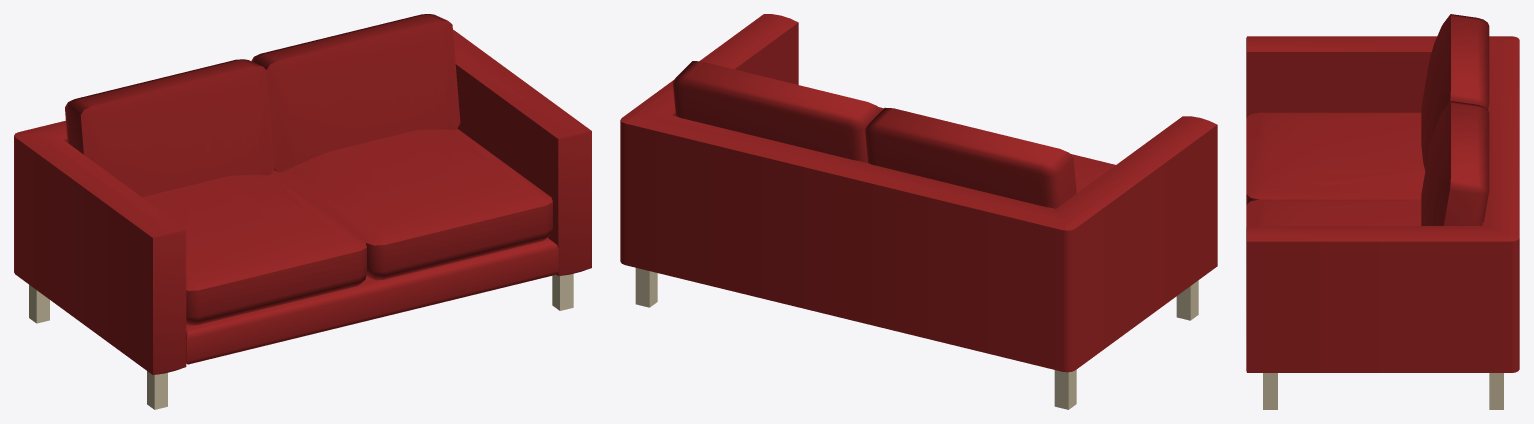
The model's file is sofa2.dae.
The picture shows the model from 3 angles, left to right: view 1: azimuth 30°, elevation 25°; view 2: azimuth 150°, elevation 25°; view 3: azimuth 270°, elevation 25°; orthographic projection. The views are drawn at different scales.
Visible parts, largest first — view 1: karlstad_loveseat_half1, karlstad_cushion4, karlstad_cushion1, karlstad_cushion3, karlstad_cushion2, karlstad_loveseat_half2, Group1, karlstad_leg12 (×2), karlstad_leg; view 2: karlstad_loveseat_half1, karlstad_loveseat_half2, karlstad_cushion2, karlstad_cushion1, karlstad_leg (×2), karlstad_cushion3, karlstad_leg12; view 3: karlstad_loveseat_half2, karlstad_loveseat_half1, karlstad_cushion3, karlstad_cushion1, karlstad_cushion2, karlstad_cushion4, karlstad_leg12, karlstad_leg.
Boxes of the visible parts, x1=… form: karlstad_loveseat_half1: x1=14, y1=120, x2=186, y2=374; karlstad_cushion4: x1=271, y1=128, x2=552, y2=280; karlstad_cushion1: x1=251, y1=14, x2=460, y2=172; karlstad_cushion3: x1=142, y1=174, x2=366, y2=325; karlstad_cushion2: x1=65, y1=59, x2=274, y2=197; karlstad_loveseat_half2: x1=453, y1=30, x2=591, y2=276; Group1: x1=186, y1=238, x2=558, y2=364; karlstad_leg12 (×2): x1=29, y1=273, x2=573, y2=323; karlstad_leg: x1=147, y1=371, x2=167, y2=409; karlstad_loveseat_half1: x1=844, y1=116, x2=1217, y2=372; karlstad_loveseat_half2: x1=620, y1=14, x2=863, y2=318; karlstad_cushion2: x1=865, y1=107, x2=1076, y2=208; karlstad_cushion1: x1=673, y1=61, x2=880, y2=162; karlstad_leg (×2): x1=635, y1=268, x2=1198, y2=320; karlstad_cushion3: x1=1070, y1=154, x2=1115, y2=193; karlstad_leg12: x1=1054, y1=370, x2=1076, y2=409; karlstad_loveseat_half2: x1=1246, y1=136, x2=1519, y2=372; karlstad_loveseat_half1: x1=1246, y1=36, x2=1519, y2=138; karlstad_cushion3: x1=1246, y1=112, x2=1425, y2=204; karlstad_cushion1: x1=1421, y1=101, x2=1489, y2=225; karlstad_cushion2: x1=1421, y1=14, x2=1489, y2=170; karlstad_cushion4: x1=1246, y1=199, x2=1421, y2=227; karlstad_leg12: x1=1263, y1=373, x2=1277, y2=409; karlstad_leg: x1=1489, y1=373, x2=1503, y2=409.
Bounding box in the file's own units: 65.34 × 36.71 × 31.8.
